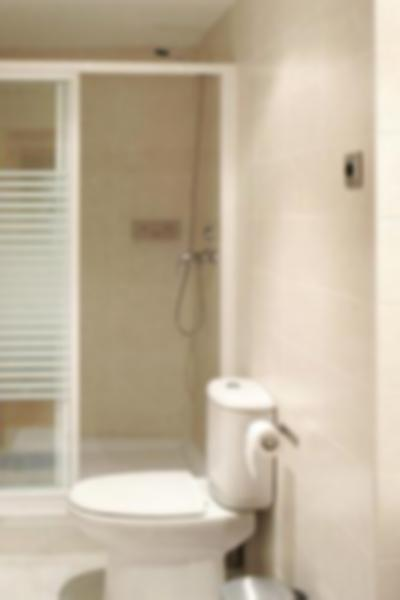Bote de Basura: (211, 569, 311, 600)
Ducha: (0, 19, 234, 535)
Sanitario: (74, 375, 276, 600)
